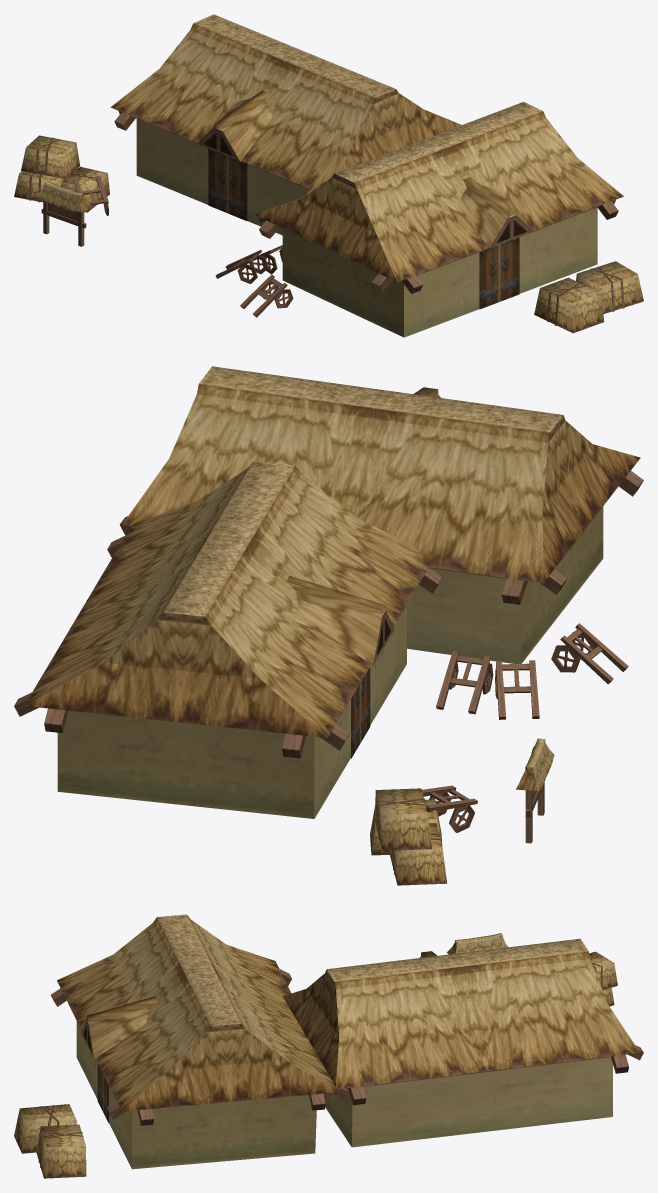
Rendered from Area_09_17.FBX.
The picture shows the model from 3 angles, top to bottom: view 1: azimuth 30°, elevation 25°; view 2: azimuth 150°, elevation 25°; view 3: azimuth 270°, elevation 25°; orthographic projection. The views are drawn at different scales.
Parts seen in each view (by area): view 1: Area_09_17; view 2: Area_09_17; view 3: Area_09_17.
Boxes of the visible parts, box(x1,y1,x2,y2) form: Area_09_17: box(14, 14, 643, 337); Area_09_17: box(14, 366, 643, 885); Area_09_17: box(14, 914, 643, 1178).
Size of the model in its own units: 2380 by 771 by 3069.
